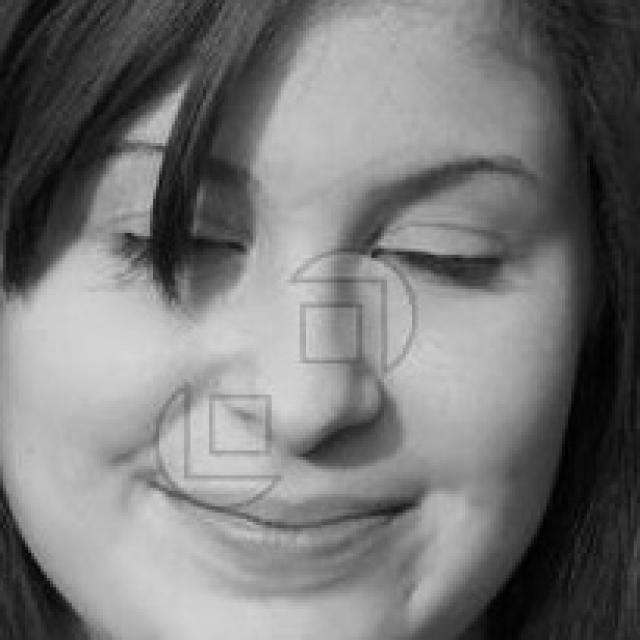real: (2, 0, 590, 640), (104, 170, 522, 312)
